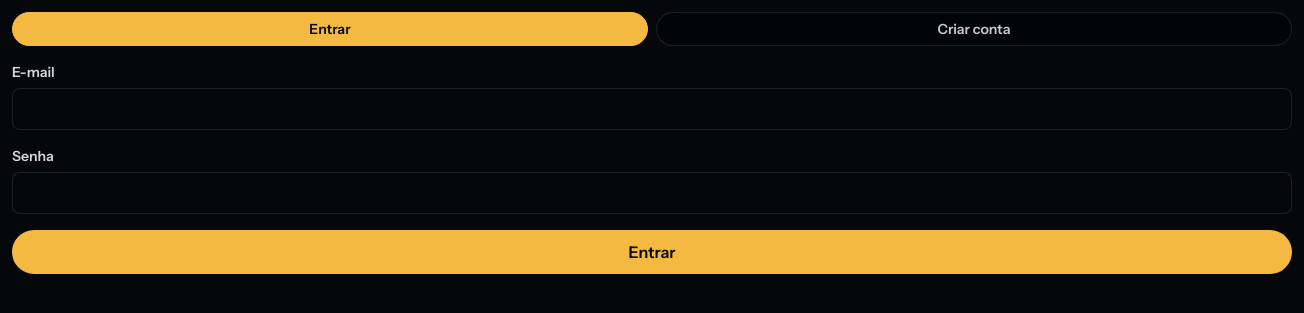
Test: AuthForm › começa em Entrar e troca para Criar conta
Expected: the 1st button "Entrar" is shown, left=12, top=12, right=648, bottom=46
Expected: the button "Entrar" below "Senha" is shown, left=12, top=230, right=1292, bottom=274
Click the button "Criar conta": (974, 29) left=656, top=12, right=1292, bottom=46
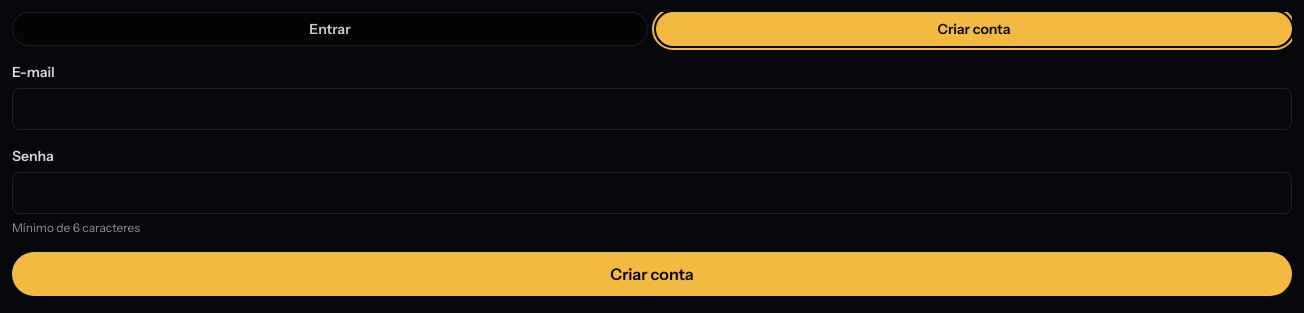
Expected: the button "Entrar" is shown, left=12, top=12, right=648, bottom=46
Now the button "Criar conta" below "Mínimo de 6 caracteres" is shown, box left=12, top=252, right=1292, bottom=296
